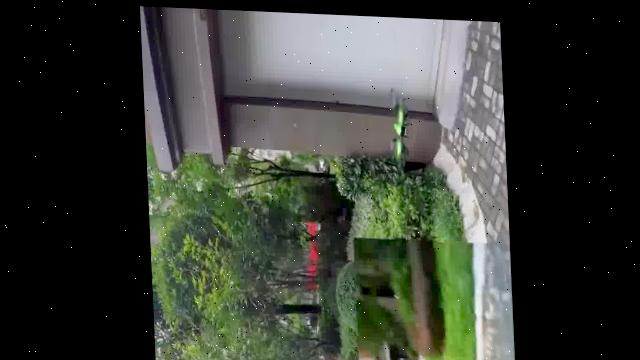drone: (386, 81, 415, 167)
